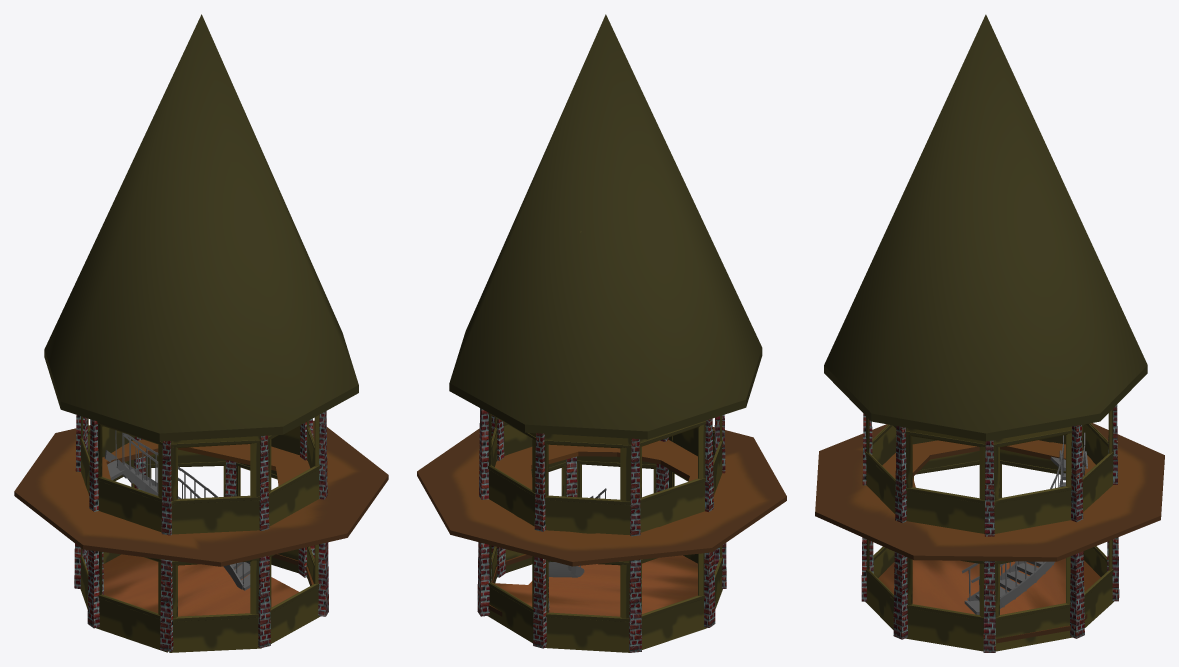
Rendered from Final-Interior.fbx.
3 renders of one model, left to right at view 1: azimuth 30°, elevation 25°; view 2: azimuth 150°, elevation 25°; view 3: azimuth 270°, elevation 25°, orthographic.
Visible parts, largest first — view 1: pCylinder39; view 2: pCylinder39; view 3: pCylinder39.
Part boxes in pixels (x1,y1,x2,y2): pCylinder39: (14,14,388,652); pCylinder39: (417,14,786,652); pCylinder39: (815,14,1164,652).
Size of the model in its own units: 54.07 by 100 by 54.07.
6 materials, 5 textured.
